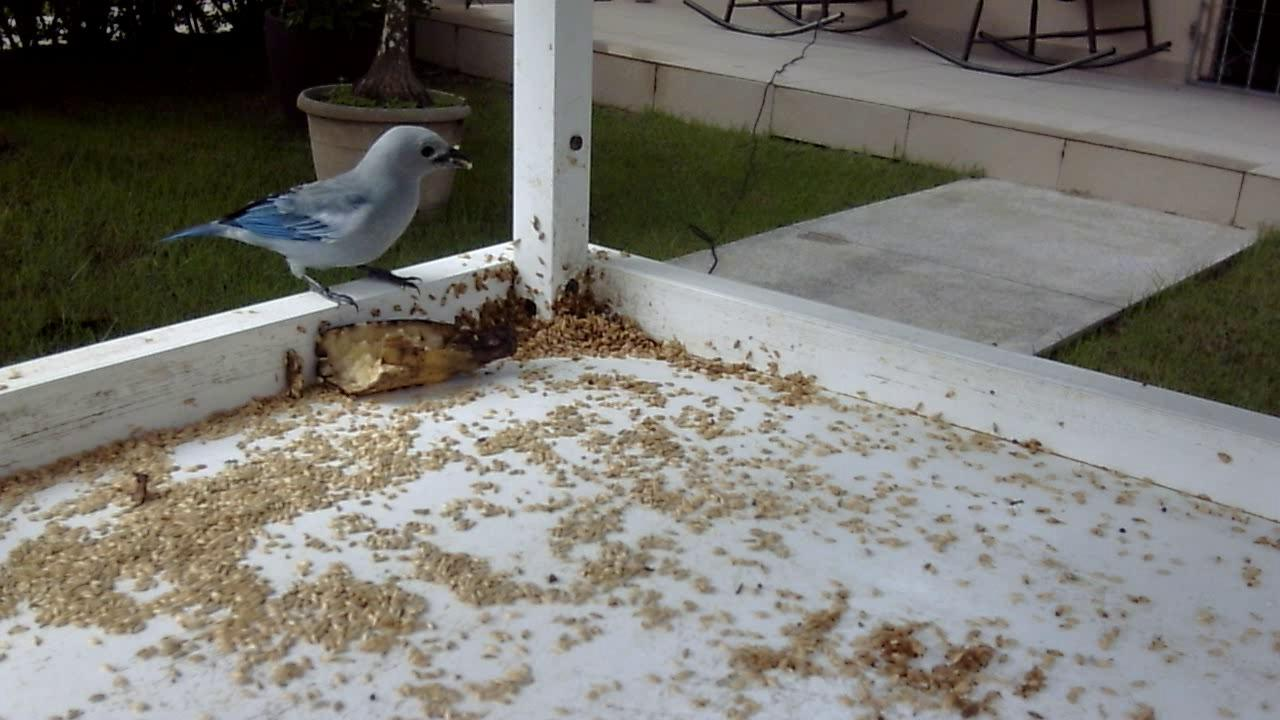sanhaco_da_amazonia: (162, 129, 472, 318)
